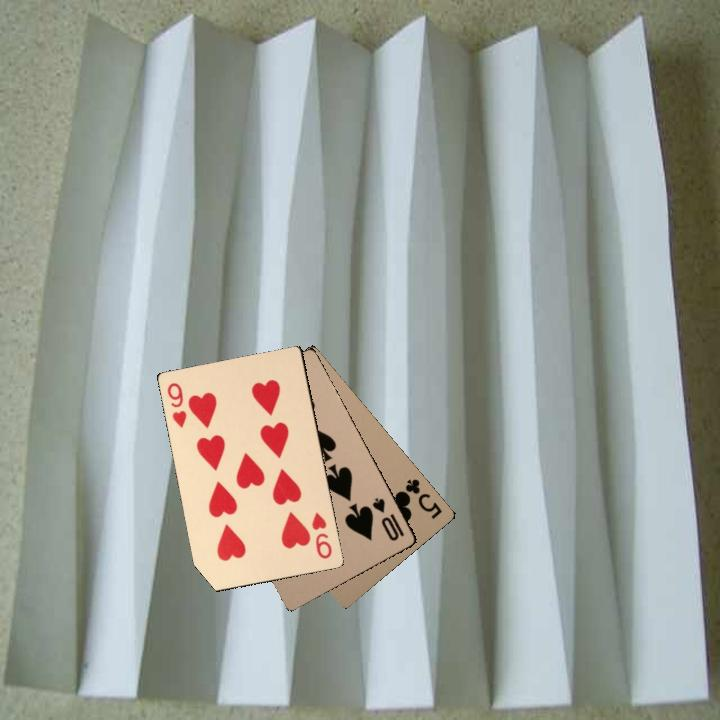10s: (368, 493, 407, 543)
5c: (398, 475, 445, 521)
9h: (308, 508, 334, 561), (163, 378, 189, 431)
